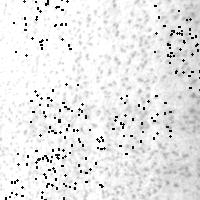pitted_surface: (1, 1, 153, 198), (135, 7, 198, 200), (45, 129, 103, 187), (112, 95, 169, 153), (13, 0, 71, 54), (5, 150, 64, 200), (30, 83, 85, 136), (154, 5, 200, 55), (167, 30, 200, 89)
